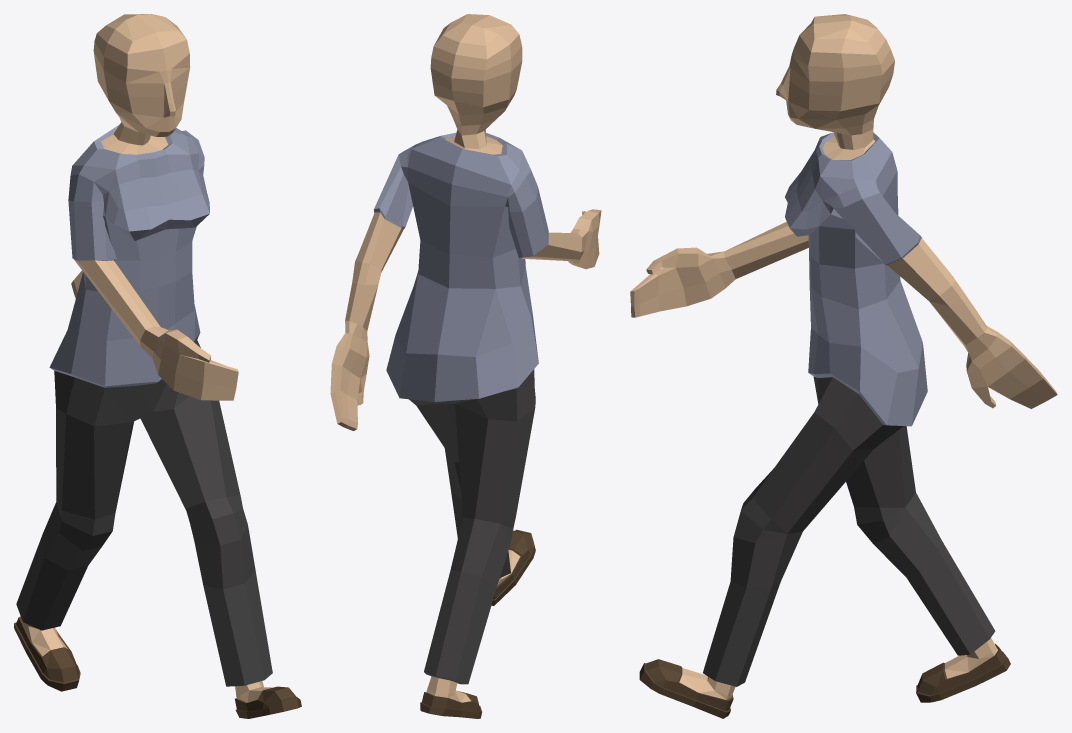
The model's file is Female_Running.glb.
3 views of the same model, side by side, from view 1: azimuth 30°, elevation 25°; view 2: azimuth 150°, elevation 25°; view 3: azimuth 270°, elevation 25° (orthographic). The views are drawn at different scales.
Visible parts, largest first — view 1: Female_Running; view 2: Female_Running; view 3: Female_Running.
Boxes of the visible parts, x1,y1,x2,y2 form: Female_Running: (14,14,301,718); Female_Running: (330,14,601,718); Female_Running: (630,14,1057,718).
Size of the model in its own units: 0.8367 by 3.7 by 2.06.
